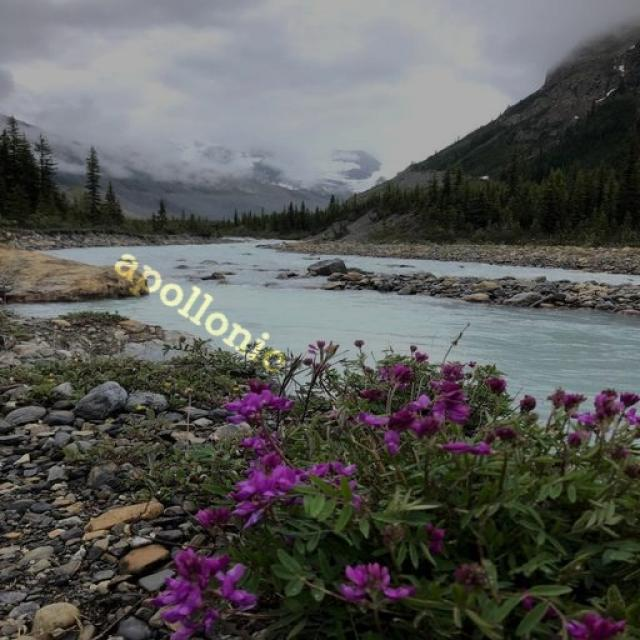watermark: (101, 236, 308, 383)
